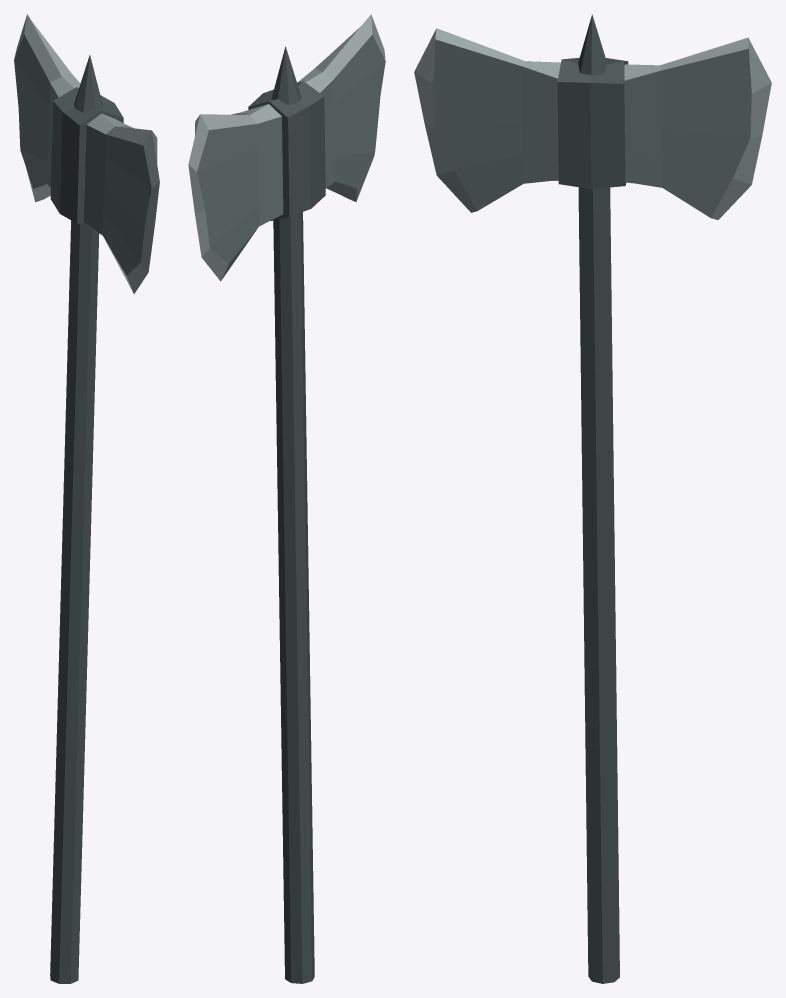
File: Axe1.fbx
The picture shows the model from 3 angles, left to right: view 1: azimuth 30°, elevation 25°; view 2: azimuth 150°, elevation 25°; view 3: azimuth 270°, elevation 25°; orthographic projection. The views are drawn at different scales.
Visible parts, largest first — view 1: Cylinder.015; view 2: Cylinder.015; view 3: Cylinder.015.
Part boxes in pixels (x1,y1,x2,y2): Cylinder.015: (14, 14, 159, 983); Cylinder.015: (188, 14, 385, 983); Cylinder.015: (414, 14, 771, 983).
Size of the model in its own units: 0.0879 by 0.4562 by 1.37.
